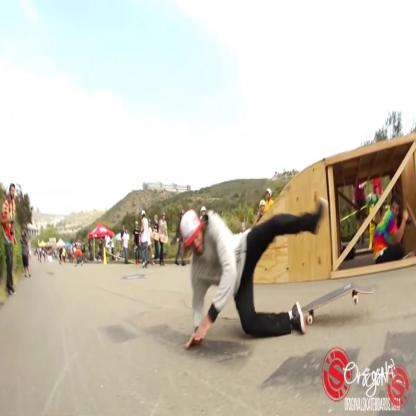Fall_Down: (178, 194, 328, 355)
